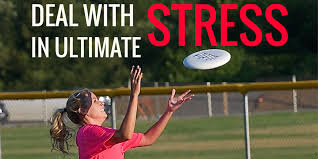disc: (182, 49, 234, 71)
